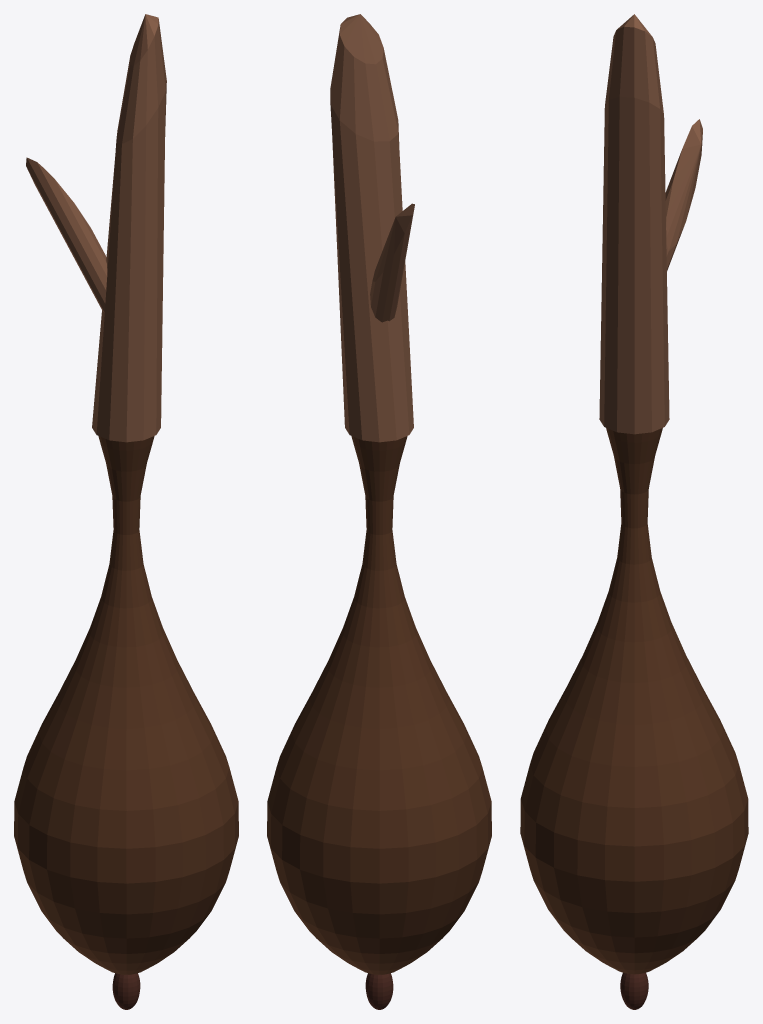
Rendered from Wand 966.glb.
3 renders of one model, left to right at view 1: azimuth 30°, elevation 25°; view 2: azimuth 150°, elevation 25°; view 3: azimuth 270°, elevation 25°, orthographic.
Visible parts, largest first — view 1: GeneratedWand; view 2: GeneratedWand; view 3: GeneratedWand.
Boxes of the visible parts, <box> form: GeneratedWand: <box>14,14,238,1009</box>; GeneratedWand: <box>267,14,491,1009</box>; GeneratedWand: <box>520,14,748,1009</box>.
Size of the model in its own units: 0.1026 by 0.4984 by 0.1026.
